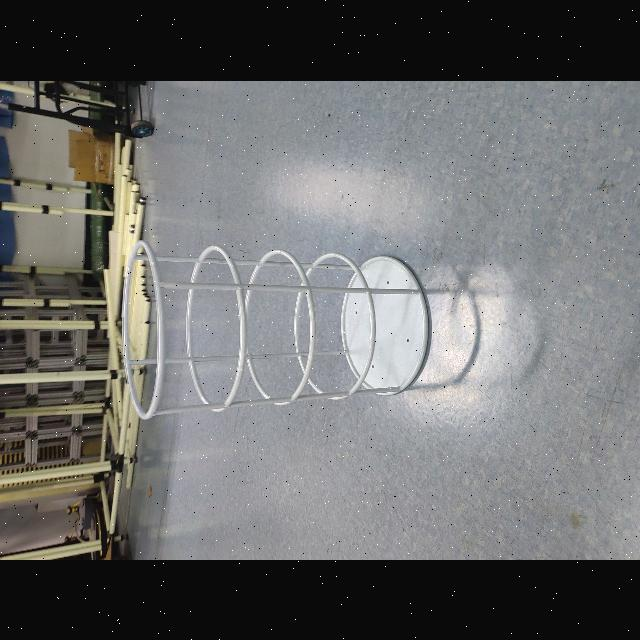S: (120, 233, 436, 423)
